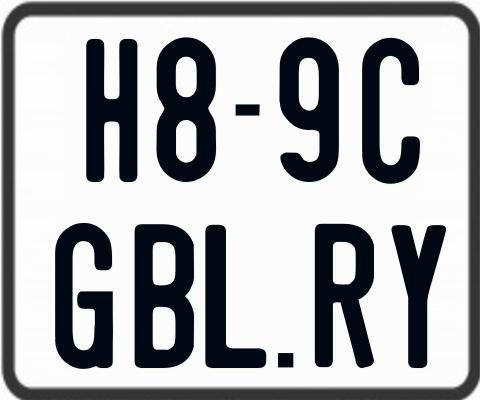8: (154, 34, 216, 179)
9: (278, 36, 341, 183)
B: (135, 223, 199, 373)
C: (361, 37, 422, 183)
G: (55, 222, 119, 368)
H: (85, 38, 136, 181)
L: (202, 224, 268, 373)
R: (313, 221, 378, 370)
Y: (390, 223, 450, 368)
